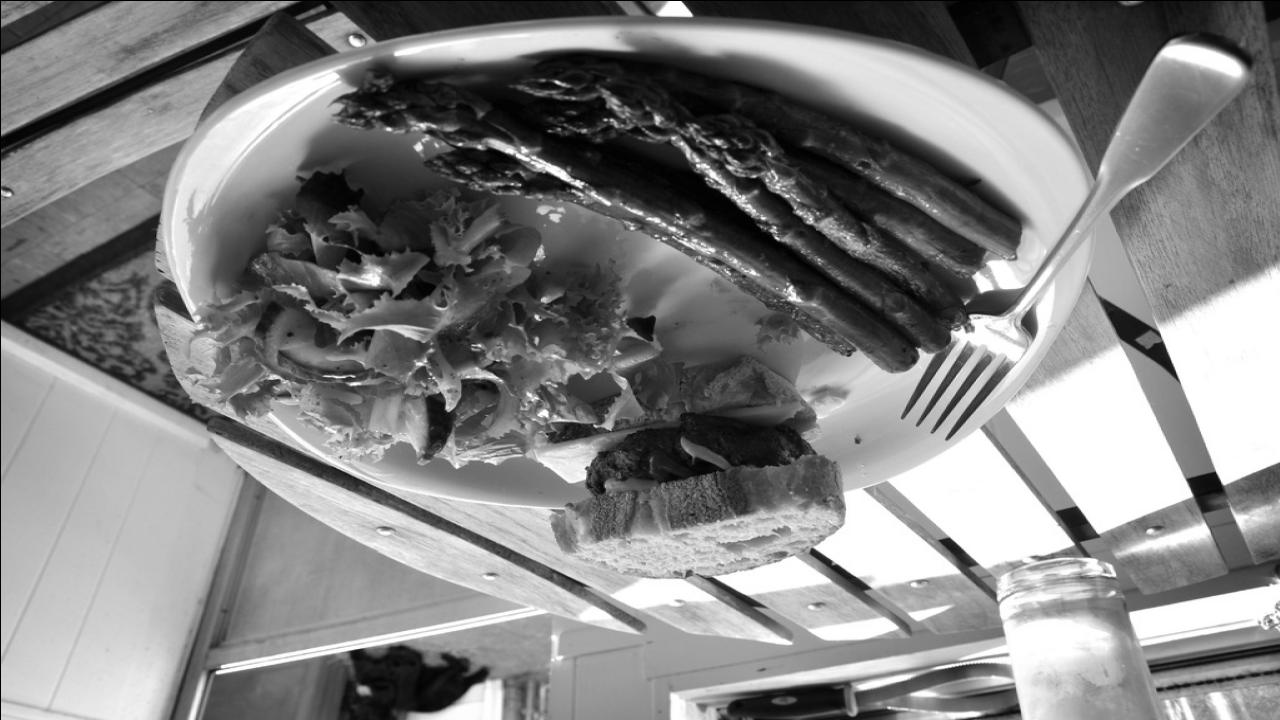fork: (896, 16, 1250, 440)
